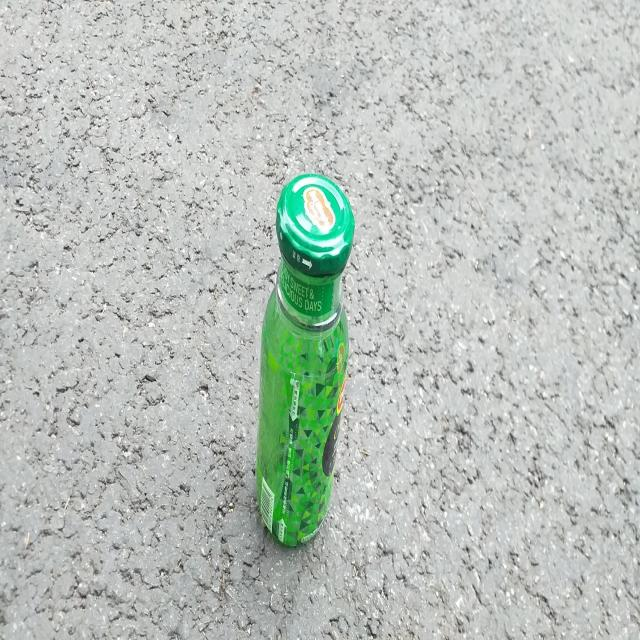glass: (256, 172, 355, 546)
